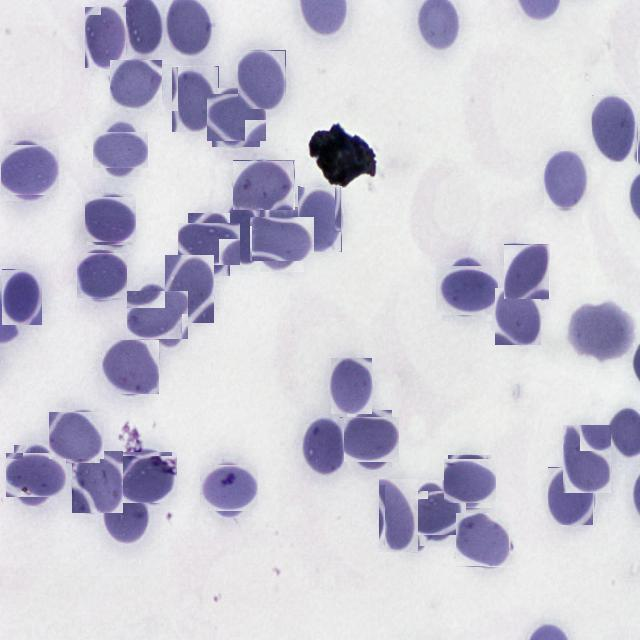red blood cell: (563, 424, 612, 493), (116, 448, 174, 506), (165, 255, 214, 323), (72, 451, 123, 513), (439, 262, 495, 318), (172, 66, 219, 132), (232, 160, 294, 210), (592, 95, 638, 162), (1, 142, 56, 198), (102, 340, 159, 394), (406, 486, 462, 540), (130, 288, 186, 342), (255, 212, 309, 267), (379, 478, 419, 552), (456, 513, 510, 567), (298, 186, 342, 252), (238, 50, 286, 109), (210, 90, 262, 144), (182, 218, 235, 270), (10, 449, 62, 502), (203, 462, 255, 515), (344, 414, 396, 466), (548, 467, 594, 525), (50, 410, 102, 461), (495, 288, 541, 345), (85, 6, 127, 68), (504, 244, 550, 299), (110, 60, 162, 108), (544, 152, 587, 210), (103, 487, 148, 542), (302, 418, 344, 475), (86, 195, 134, 244), (446, 457, 494, 506), (78, 251, 126, 299), (2, 269, 43, 325), (331, 358, 372, 414), (226, 202, 261, 264), (98, 126, 144, 172)
